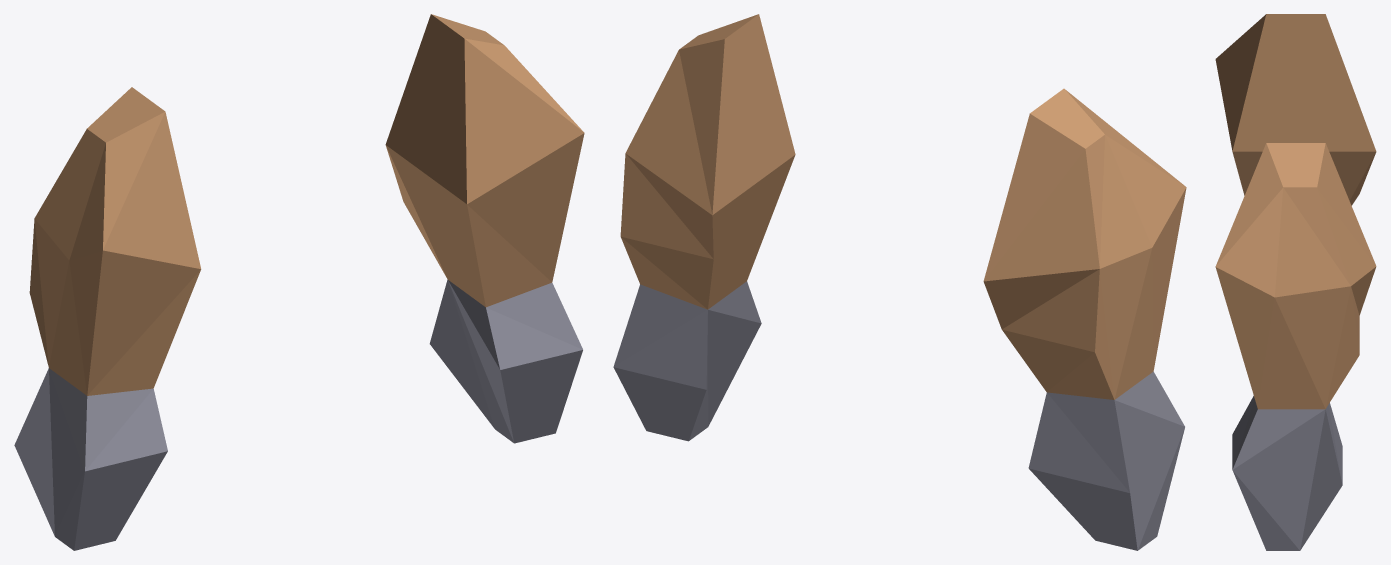
File: npc_world_woman_4_3.obj
3 renders of one model, left to right at view 1: azimuth 30°, elevation 25°; view 2: azimuth 150°, elevation 25°; view 3: azimuth 270°, elevation 25°, orthographic. The views are drawn at different scales.
Bounding box in the file's own units: 0.4766 × 0.375 × 0.1484.
